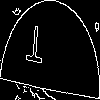T: (25, 24, 45, 74)
